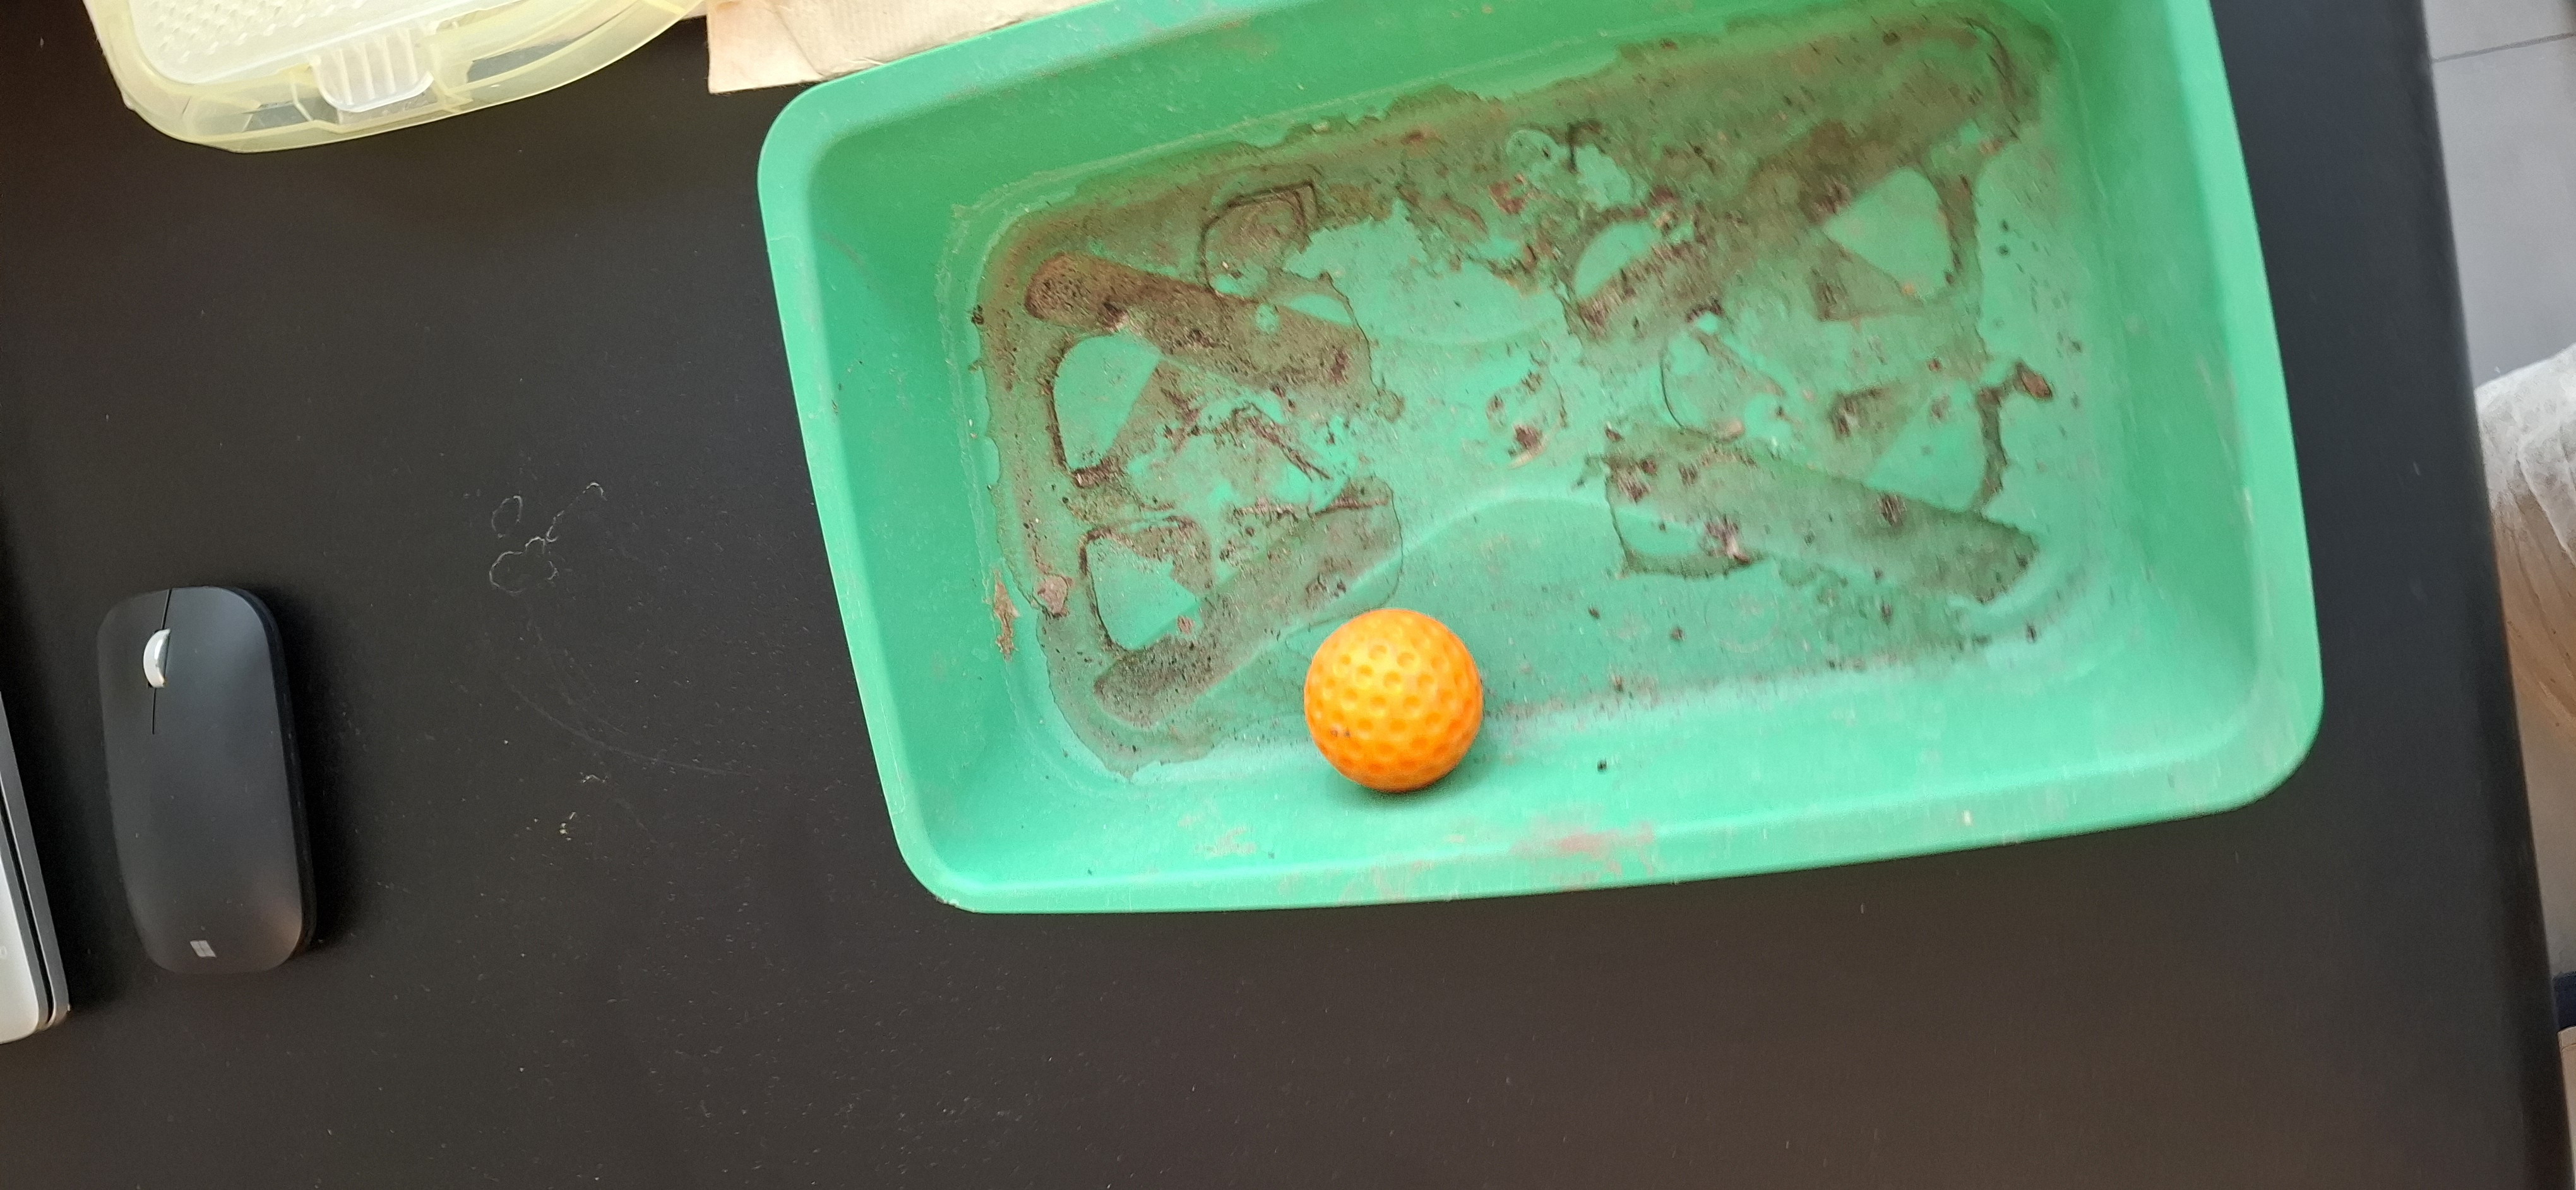ball: (1301, 608, 1487, 797)
